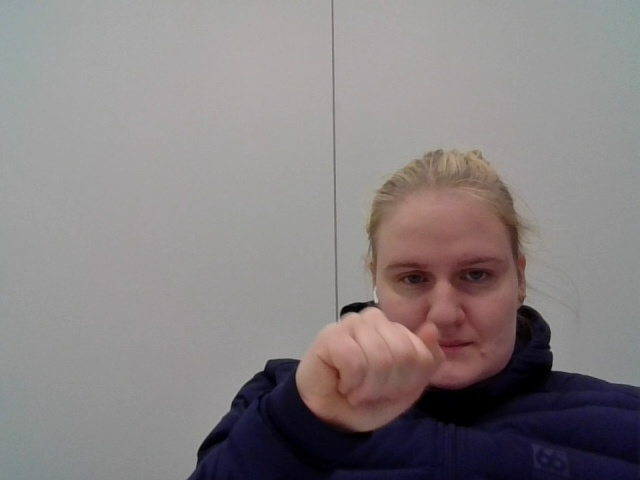down: (267, 297, 457, 437)
